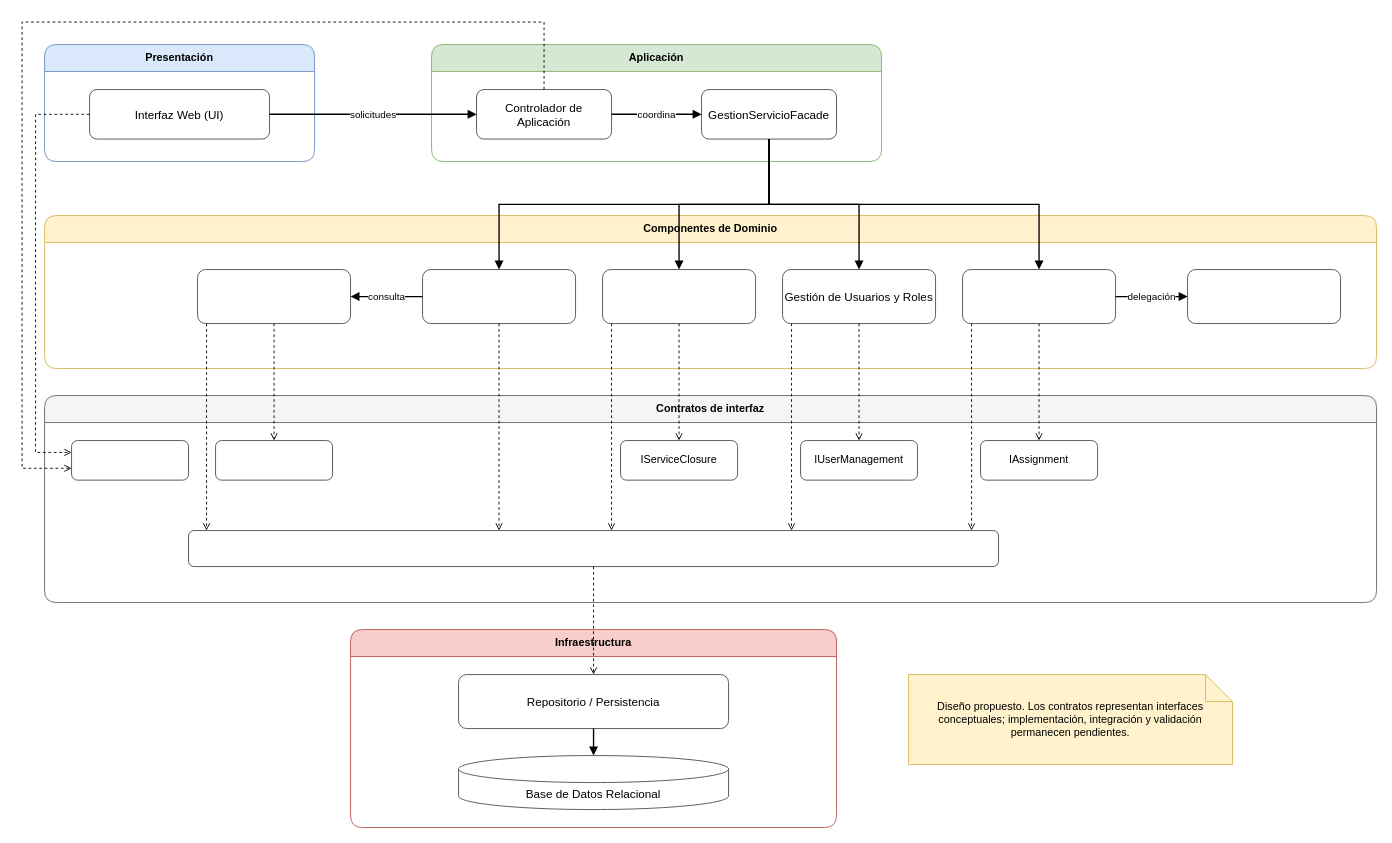
This 1392x843 diagram has some shape labels left out. Each missing label, with the centre of its shape:
Estrategia de Asignación: [1264,296]
Gestión de Asignaciones: [1039,296]
Gestión de Cierre: [679,296]
Gestión de Pacientes: [274,296]
Gestión de Servicios: [499,296]
IDataPersistence: [593,548]
IPatientManagement: [274,460]
IServiceWorkflow: [130,460]
